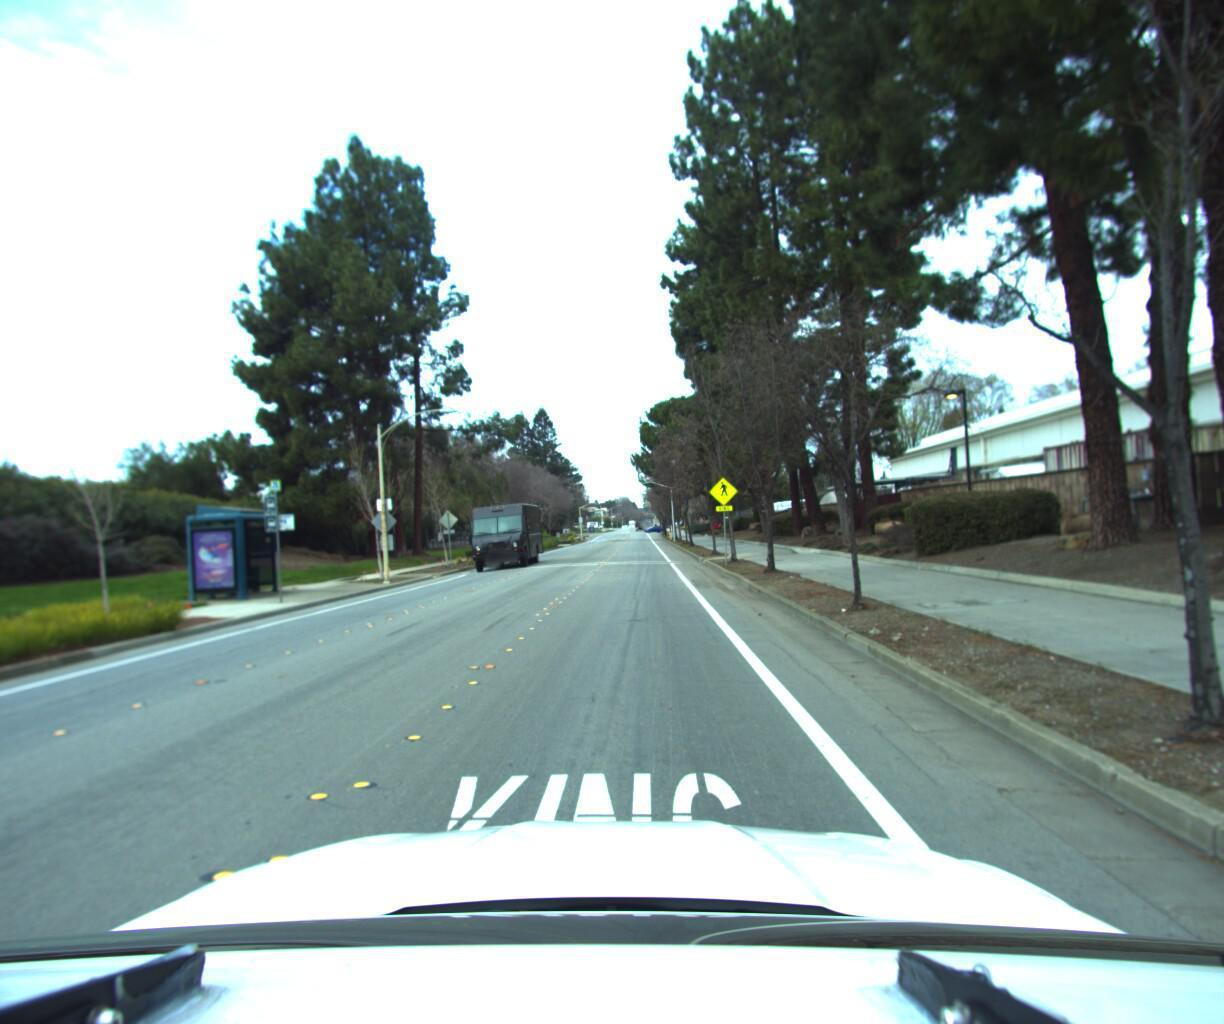other_vehicle: (764, 488, 873, 522)
truck: (461, 495, 549, 574)
